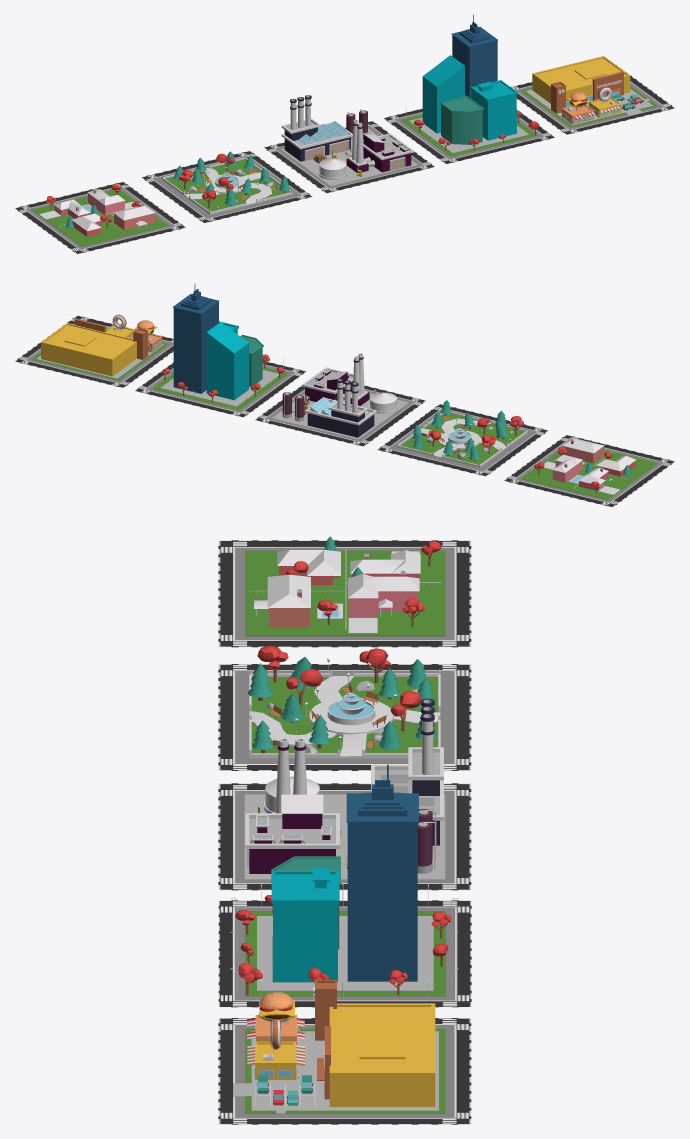
Rendered from FacesCombined_BO.fbx.
The picture shows the model from 3 angles, top to bottom: view 1: azimuth 30°, elevation 25°; view 2: azimuth 150°, elevation 25°; view 3: azimuth 270°, elevation 25°; orthographic projection. The views are drawn at different scales.
Parts seen in each view (by area): view 1: FacesCombined_BO; view 2: FacesCombined_BO; view 3: FacesCombined_BO.
Boxes of the visible parts, x1,y1,x2,y2 form: FacesCombined_BO: (14, 14, 675, 254); FacesCombined_BO: (14, 283, 675, 507); FacesCombined_BO: (218, 536, 471, 1124).
Bounding box in the file's own units: 5464 × 923 × 1001.
